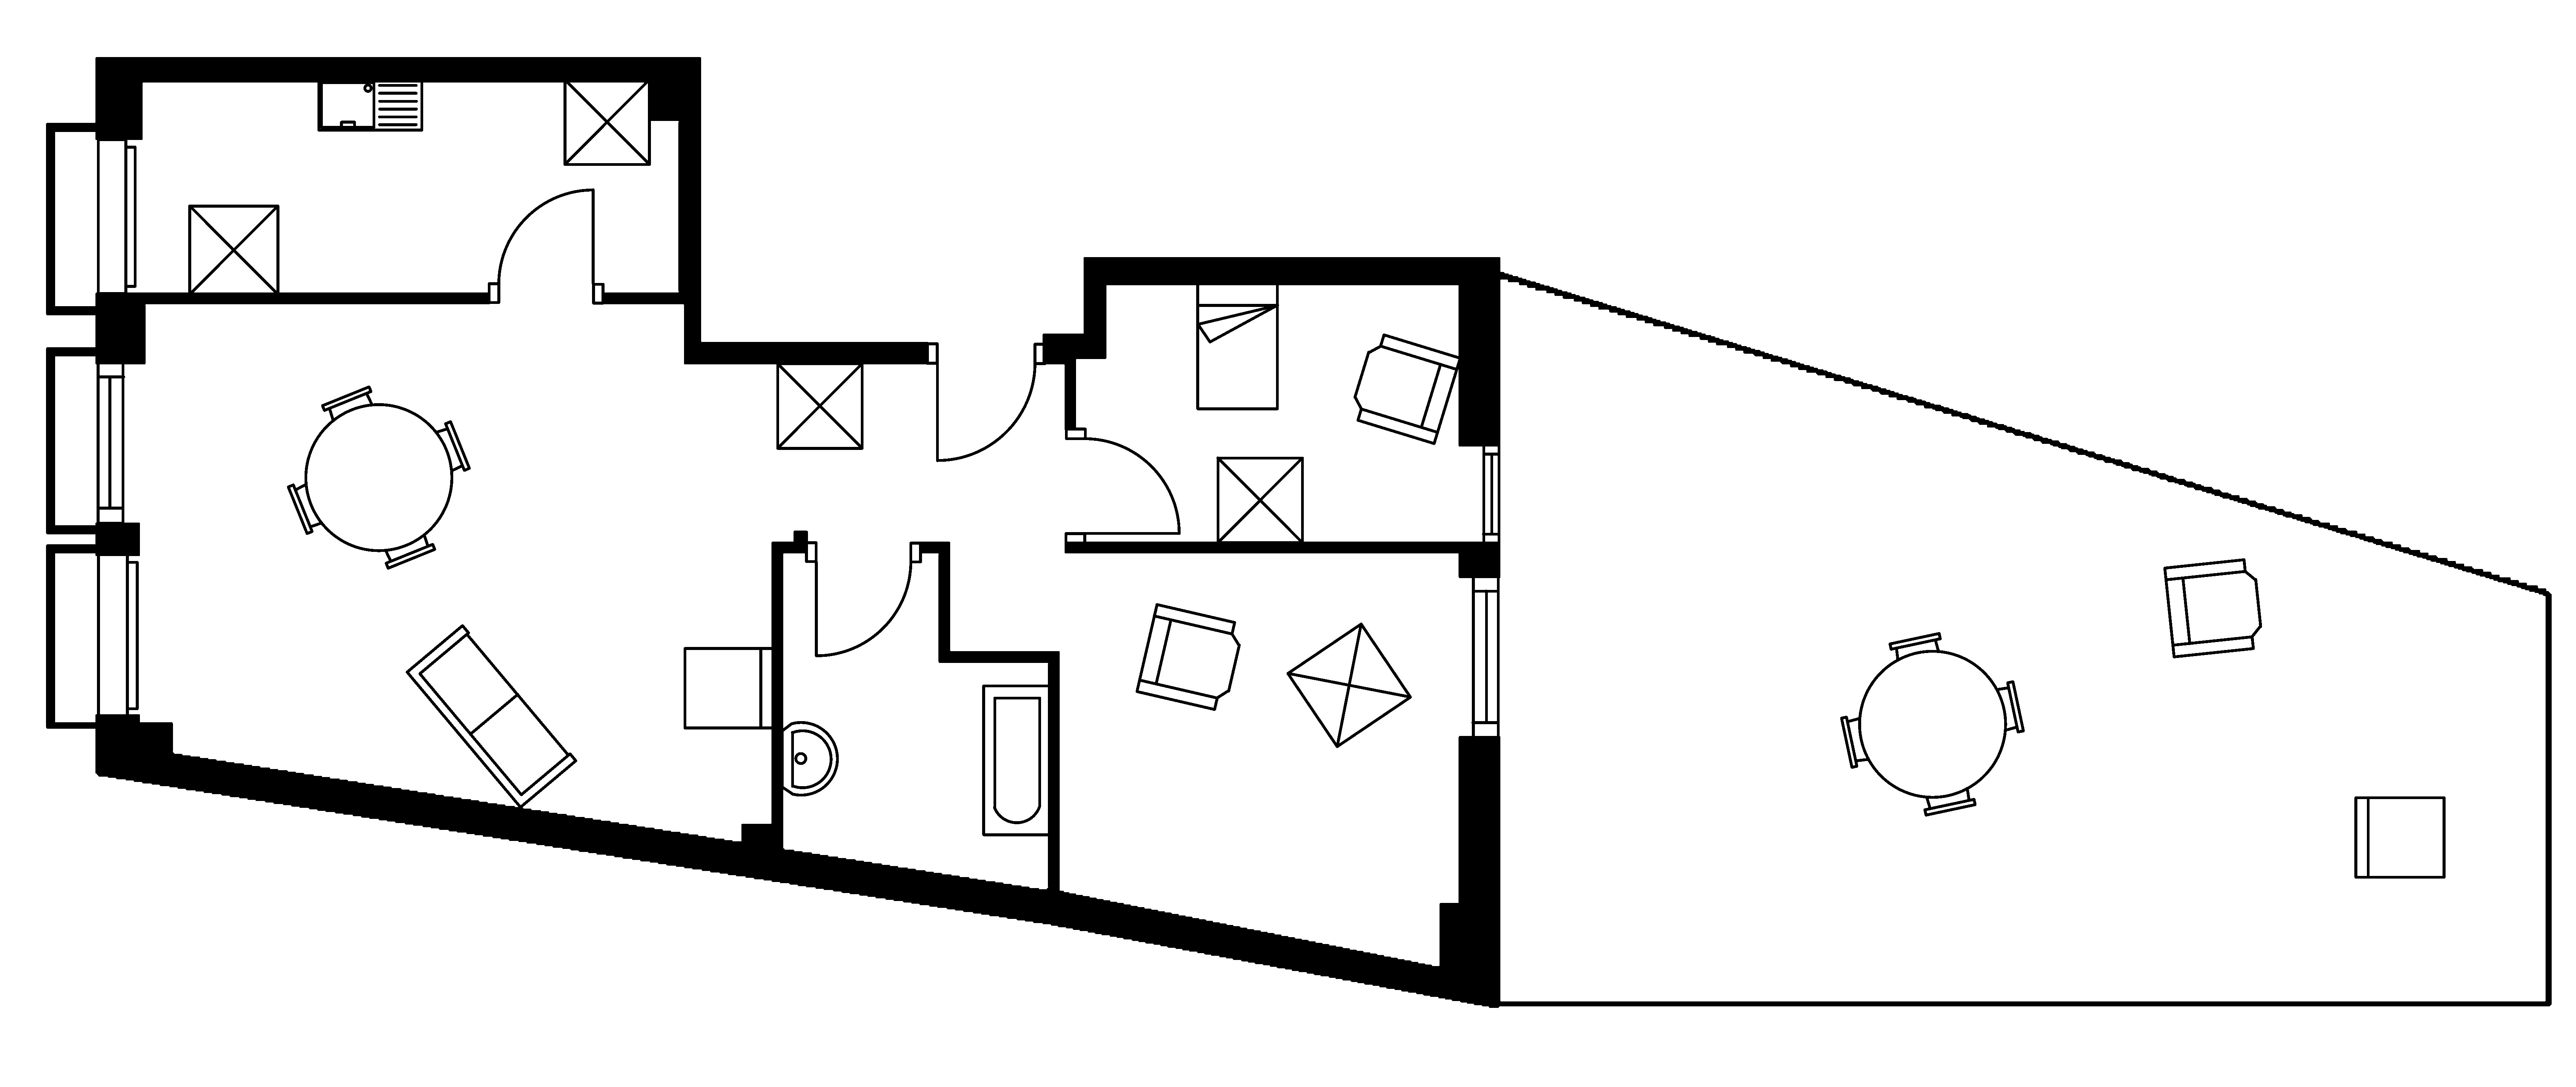armchair: (1352, 332, 1462, 446), (1135, 602, 1240, 710), (2162, 557, 2262, 658)
bed: (1194, 281, 1280, 411)
coffee_table: (1285, 622, 1413, 748), (187, 204, 279, 296), (562, 77, 651, 166), (775, 362, 864, 451), (1216, 456, 1304, 544)
large_sofa: (404, 623, 578, 809)
round_table: (1838, 631, 2026, 817), (286, 385, 471, 569)
sink: (317, 77, 424, 132)
small_sink: (780, 722, 838, 796)
small_sofa: (682, 646, 774, 730), (2354, 796, 2446, 878)
tub: (981, 684, 1051, 837)
